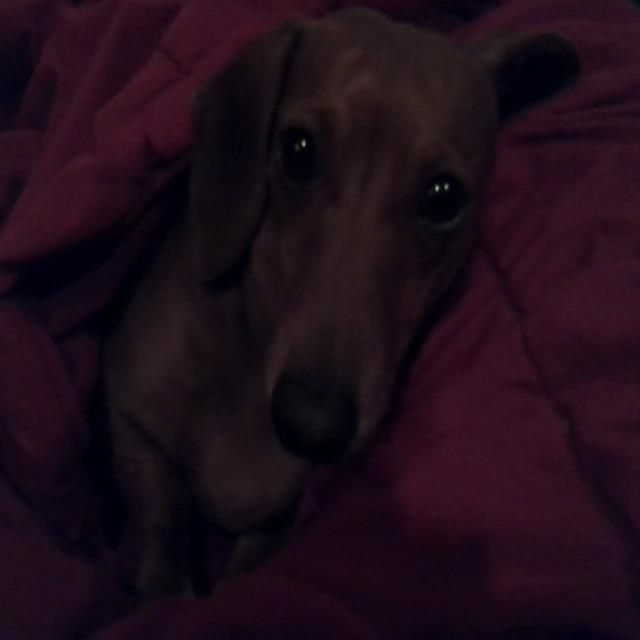Dog: (162, 44, 542, 550)
